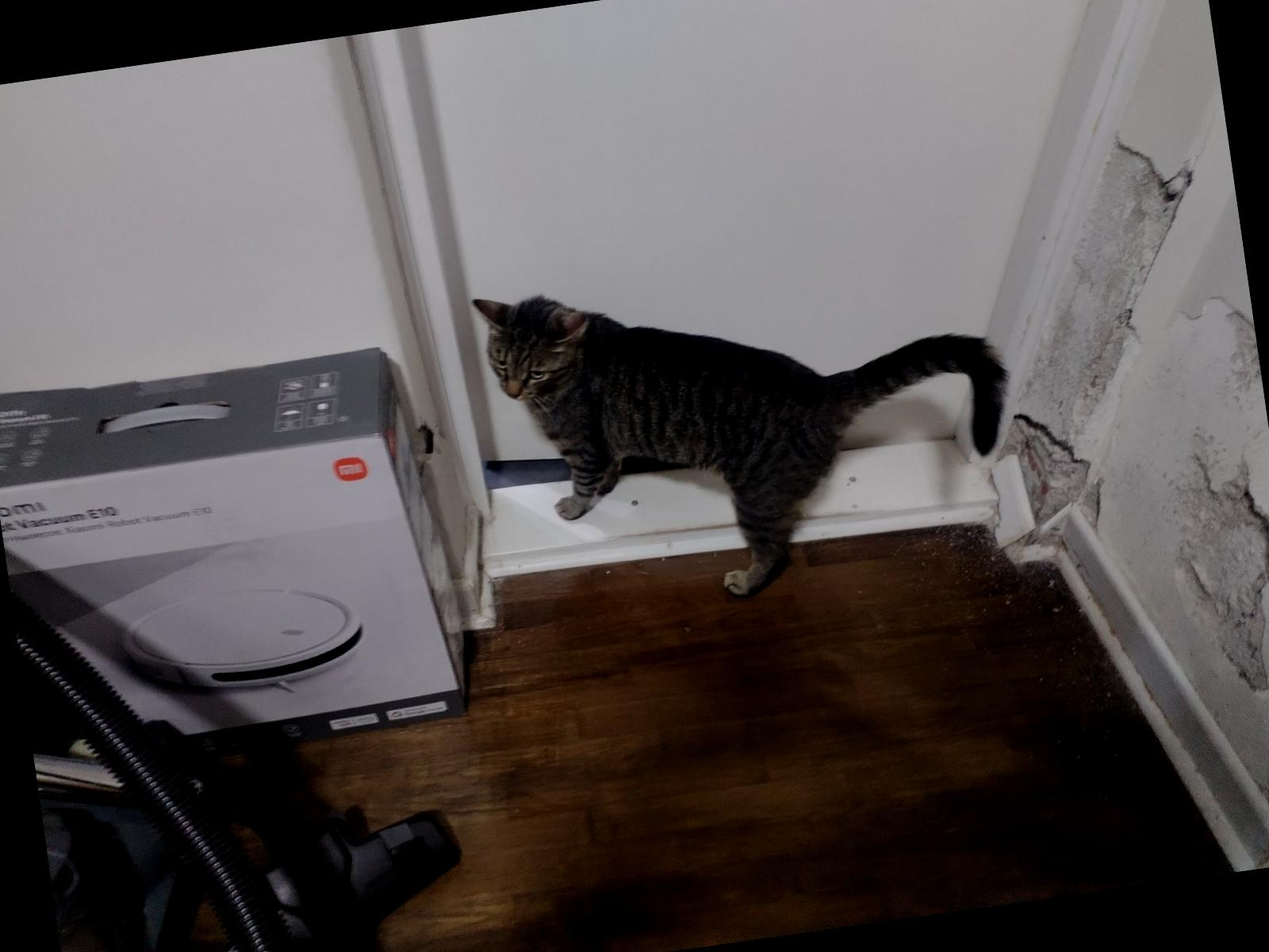macka: (467, 227, 1035, 635)
